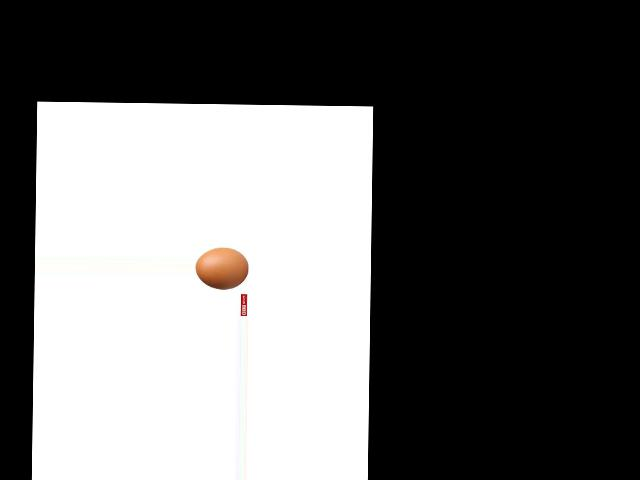egg: (196, 246, 248, 289)
